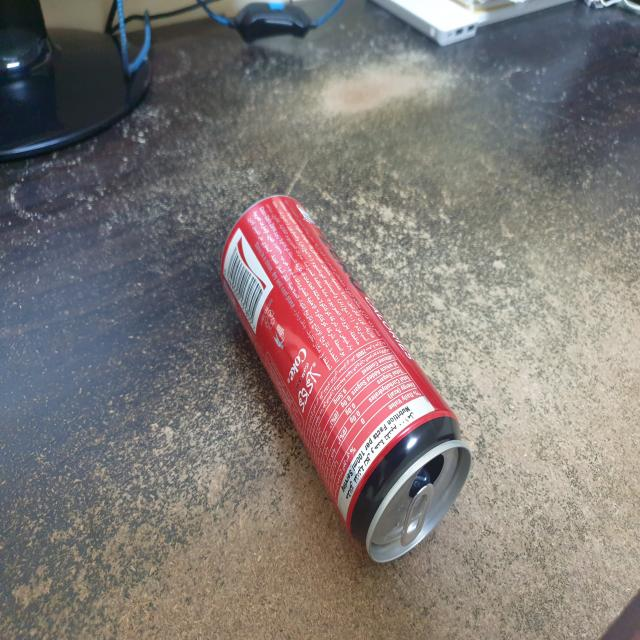metal-can: (214, 186, 478, 572)
